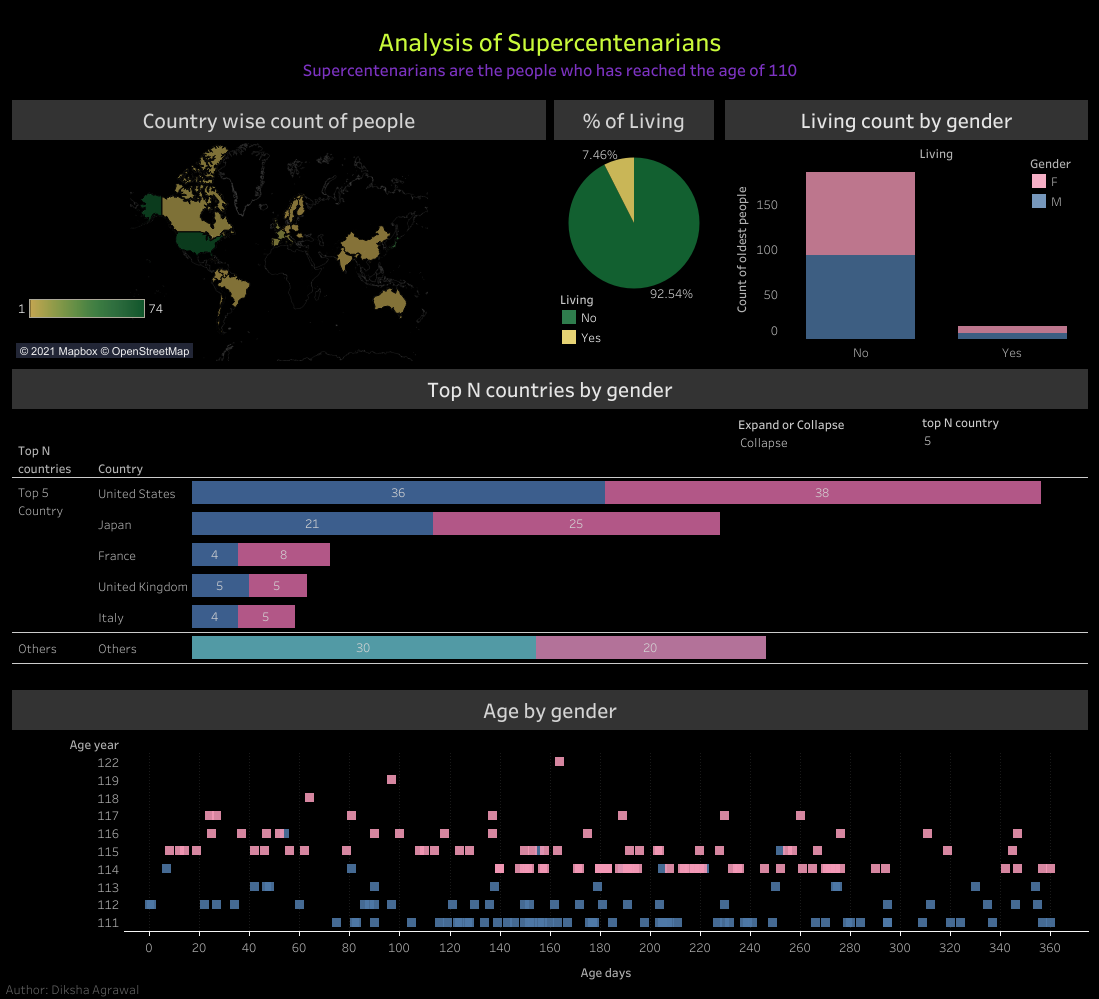

What the dashboard file says about the page in this screenshot:
{"tool":"tableau","page":{"name":"Dashboard 1","canvas":[1100,1000],"ordinal":0},"visuals":[{"type":"worksheet","box":[0,0,1100,1000]},{"type":"worksheet","param":"vert","box":[8,8,1084,984]},{"type":"worksheet","box":[8,8,1084,88]},{"type":"worksheet","param":"horz","box":[8,96,1084,896]},{"type":"worksheet","box":[8,96,1084,896]},{"type":"worksheet","title":"Sheet 2","mark":"Automatic","box":[8,96,542,268.6]},{"type":"worksheet","title":"Sheet 1","mark":"Pie","box":[550,96,171,268.6]},{"type":"worksheet","title":"Sheet 4","mark":"Bar","rows":["oldest_people_4BDBB05BB20346B286A31CD2A7EDF9F6"],"cols":["Living"],"box":[721,96,371,268.6]},{"type":"worksheet","title":"Sheet 4","mark":"Bar","rows":["oldest_people_4BDBB05BB20346B286A31CD2A7EDF9F6"],"cols":["Living"],"param":"[federated.1bx4xau0gmxzhf1azk6z415erdx8].[none:Gender:nk]","box":[1029,152,47,73]},{"type":"worksheet","title":"Sheet 1","mark":"Pie","param":"[federated.1bx4xau0gmxzhf1azk6z415erdx8].[none:Living:nk]","box":[559,288,57,72]},{"type":"worksheet","title":"Sheet 2","mark":"Automatic","param":"[federated.1bx4xau0gmxzhf1azk6z415erdx8].[__tableau_internal_object_id__].[cnt:o","box":[14,295,154,52]},{"type":"worksheet","title":"Sheet 3","mark":"Automatic","rows":["Top N countries by count","Calculation_633107611006377984","Calculation_633107611009720321"],"cols":["oldest_people_4BDBB05BB20346B286A31CD2A7EDF9F6"],"box":[8,364.6,1084,321.4]},{"type":"worksheet","param":"[Parameters].[Parameter 1]","box":[922,412,176,83]},{"type":"worksheet","param":"[Parameters].[Parameter 2]","box":[738,414,176,56]},{"type":"worksheet","title":"Sheet 5","mark":"Square","rows":["Age_year"],"cols":["Age_days"],"box":[8,686,1084,306]},{"type":"worksheet","box":[3,980,147,17]}]}

Visuals, with their boxes in screenshot pixels (x1, y1, x2, y2), scaled from the page's 1100x1000 canvas onto the 1099x999 screenshot:
worksheet: 0,0,1098,998
worksheet: 8,8,1091,991
worksheet: 8,8,1091,96
worksheet: 8,96,1091,991
worksheet: 8,96,1091,991
"Sheet 2" worksheet: 8,96,550,364
"Sheet 1" worksheet (Pie marks): 550,96,720,364
"Sheet 4" worksheet (Bar marks): 720,96,1091,364
"Sheet 4" worksheet (Bar marks): 1028,152,1075,225
"Sheet 1" worksheet (Pie marks): 558,288,615,360
"Sheet 2" worksheet: 14,295,168,347
"Sheet 3" worksheet: 8,364,1091,685
worksheet: 921,412,1097,495
worksheet: 737,414,913,470
"Sheet 5" worksheet (Square marks): 8,685,1091,991
worksheet: 3,979,150,996
